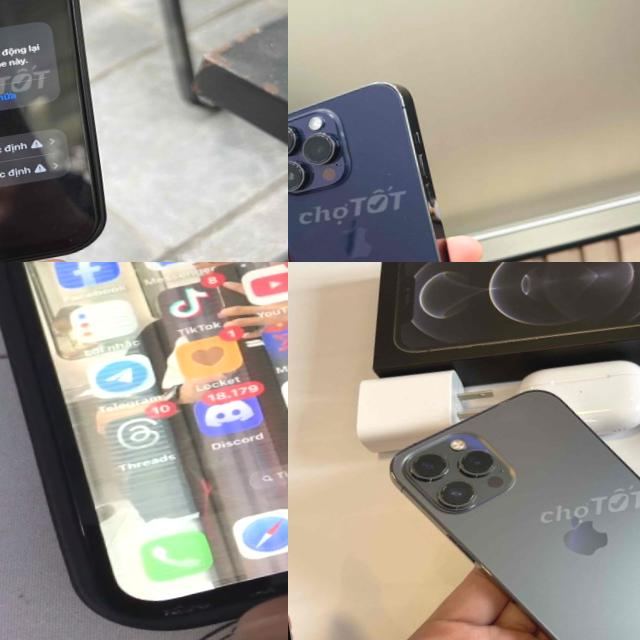gen_11: (0, 262, 288, 640)
gen_12_13: (377, 358, 640, 640), (0, 0, 129, 262)
gen_14: (288, 68, 486, 262)
screen_defect: (38, 352, 288, 576), (0, 262, 288, 425), (101, 515, 288, 609)
